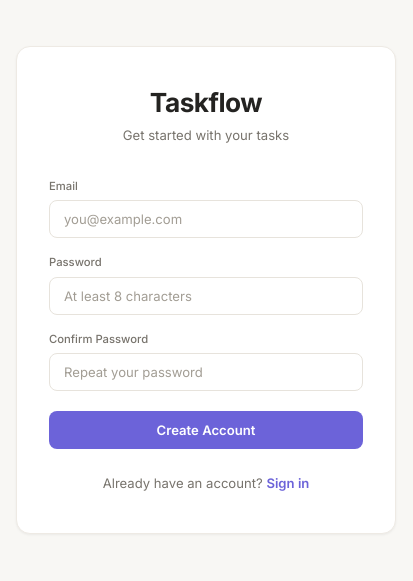
Test case: RegisterPage › shows error when passwords do not match
Step 1. Type "test@test.com" into the field labelled "Email" → (206, 219), box [49,200,363,238]
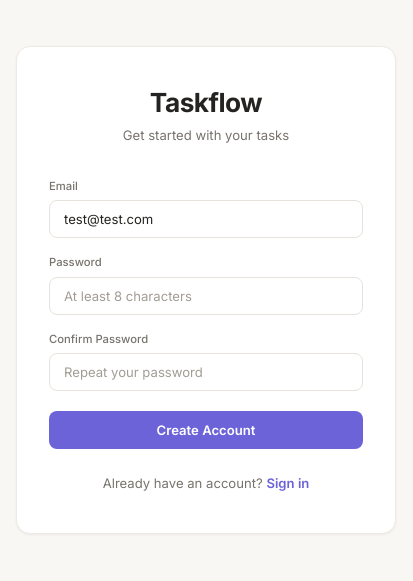
Step 2. Type "password123" into the password field labelled "Password" → (206, 296), box [49,277,363,315]
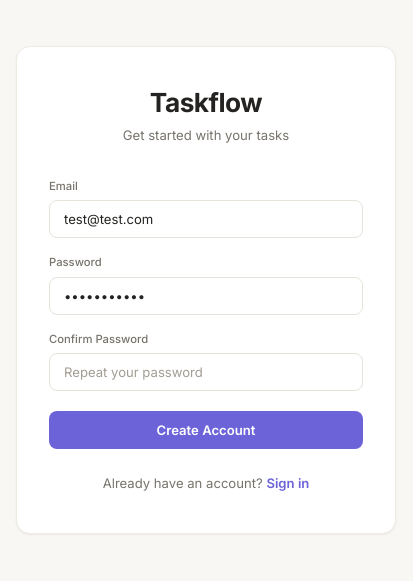
Step 3. Type "different" into the password field labelled "Confirm Password" → (206, 372), box [49,353,363,391]
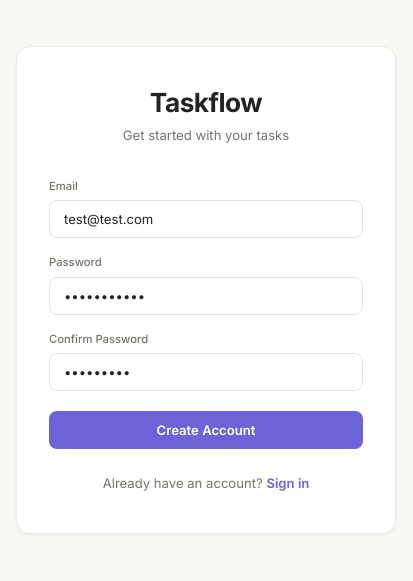
Step 4. Click the button "Create Account" → click(206, 430), box [49,411,363,449]
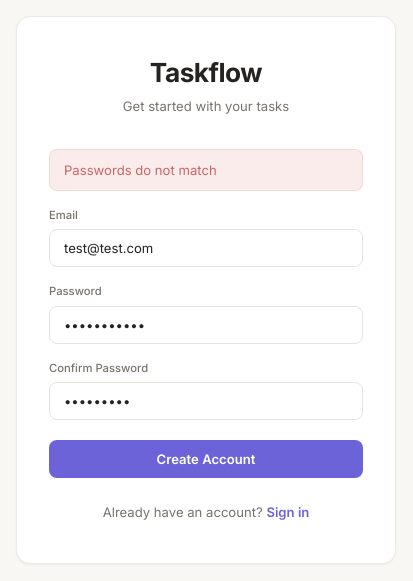
Check: the text "Passwords do not match" is shown, box [49,149,363,191]
